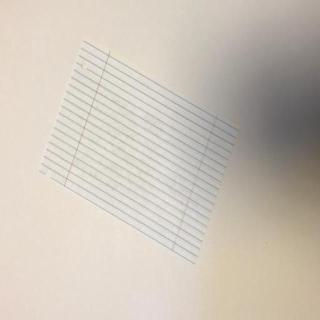Anorganik: (36, 42, 240, 266)
